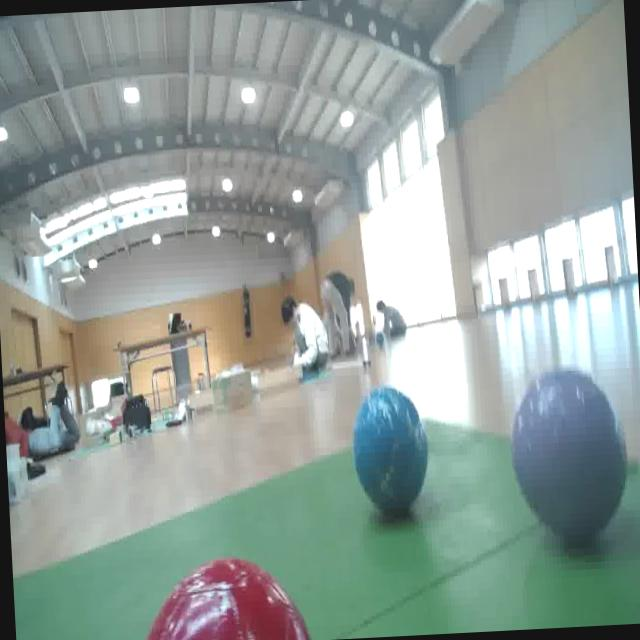blue_ball: (346, 359, 436, 516)
purple_ball: (514, 363, 636, 554)
red_ball: (132, 555, 321, 640)
